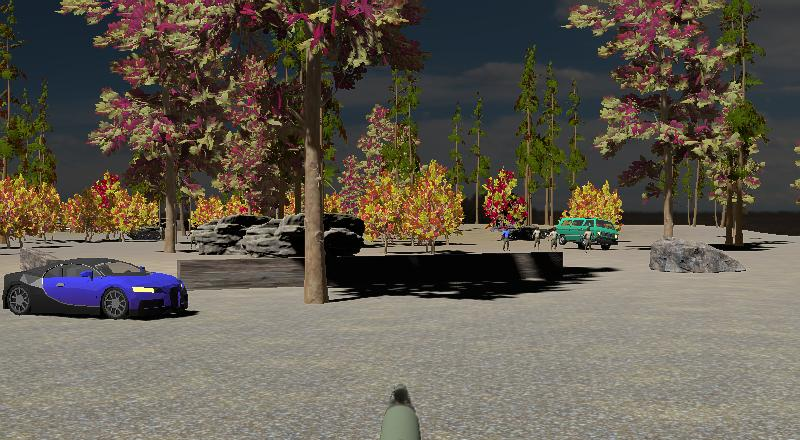Human: (499, 225, 512, 253), (583, 227, 593, 252)
Tank: (127, 222, 167, 241)
car: (2, 255, 191, 321), (554, 216, 619, 249)
